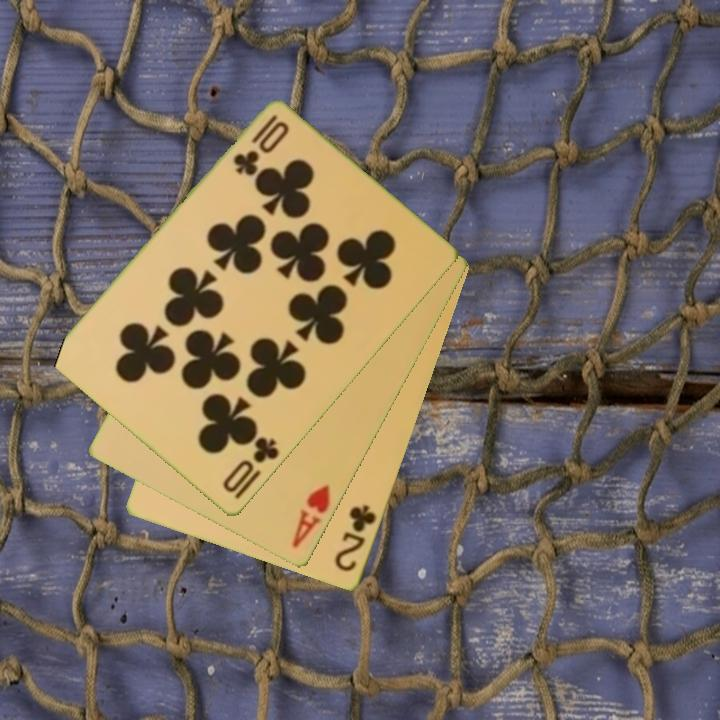10c: (219, 433, 283, 497), (229, 111, 281, 179)
2c: (331, 501, 380, 575)
Ah: (288, 481, 334, 552)
